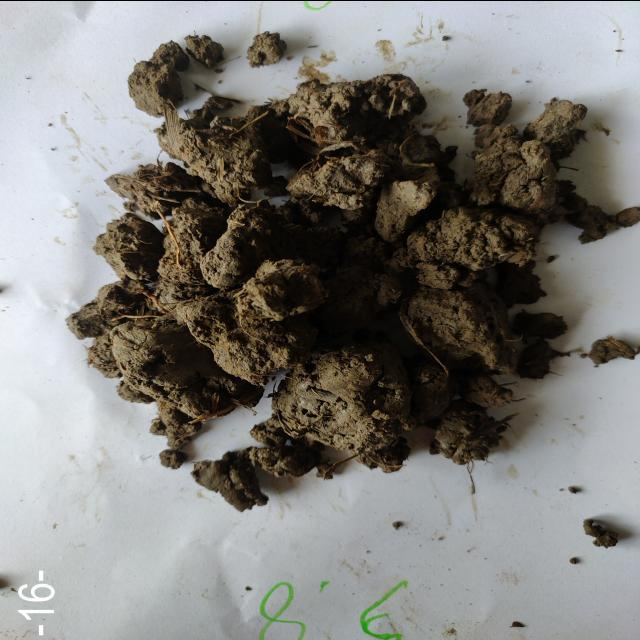soil: (136, 157, 530, 386)
